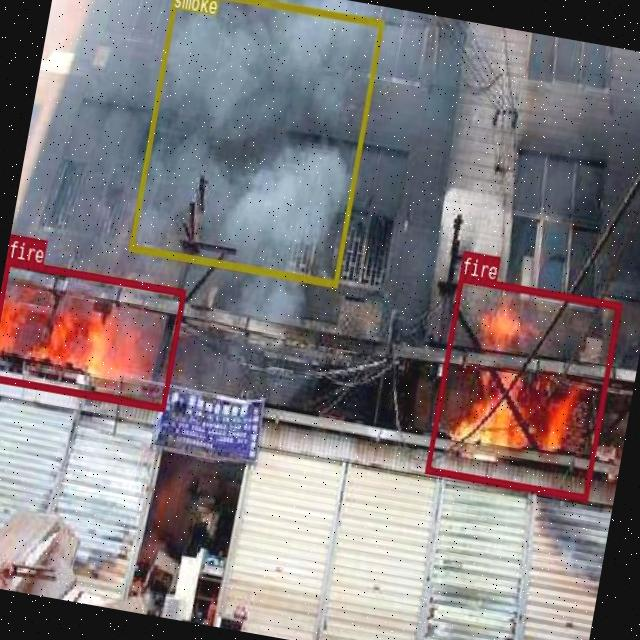fire: (424, 273, 621, 500), (0, 257, 185, 410)
smoke: (127, 0, 382, 287)
